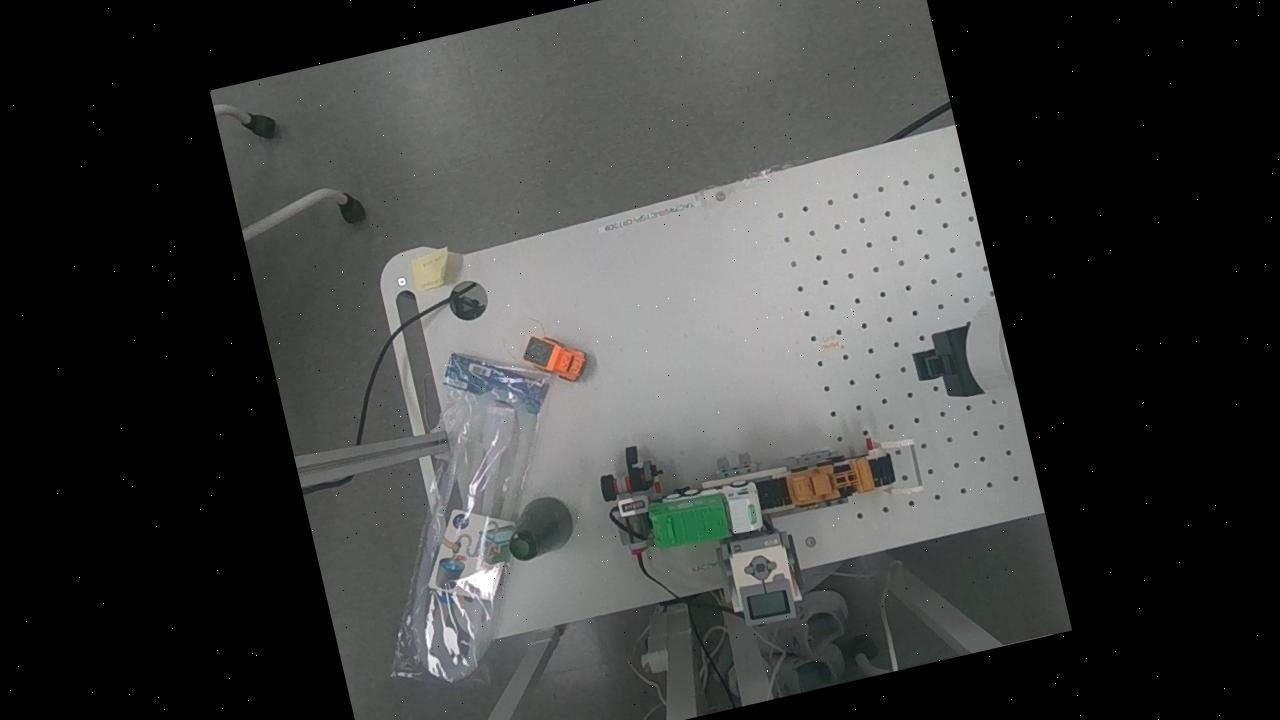green_car: (637, 466, 770, 558)
orange_car: (509, 315, 593, 396)
yellow_car: (770, 437, 882, 520)
